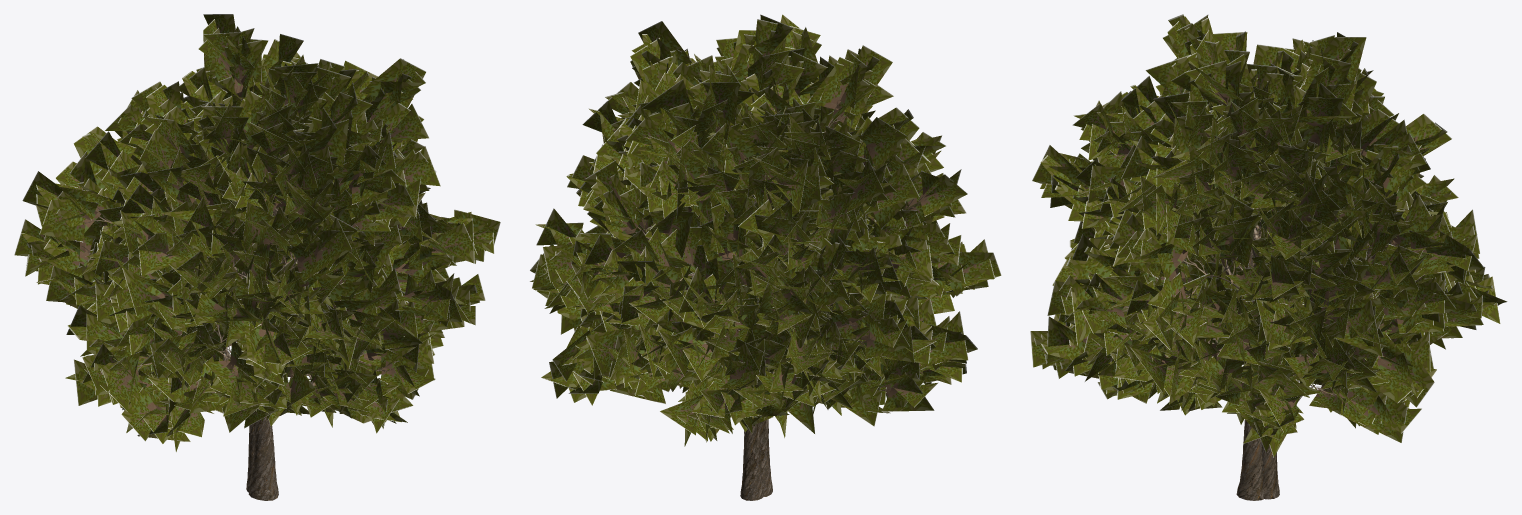
File: ENV_Trees.glb
3 renders of one model, left to right at view 1: azimuth 30°, elevation 25°; view 2: azimuth 150°, elevation 25°; view 3: azimuth 270°, elevation 25°, orthographic. The views are drawn at different scales.
Visible parts, largest first — view 1: TREE_A, TREE_B; view 2: TREE_A, TREE_B; view 3: TREE_A, TREE_B.
Boxes of the visible parts, x1,y1,x2,y2 form: TREE_A: (14,14,500,492); TREE_B: (66,67,452,500); TREE_A: (529,14,1001,500); TREE_B: (557,56,966,496); TREE_A: (1030,14,1507,499); TREE_B: (1064,44,1475,500).
Size of the model in its own units: 4.61 by 5.14 by 4.82.
6 materials, 6 textured.
